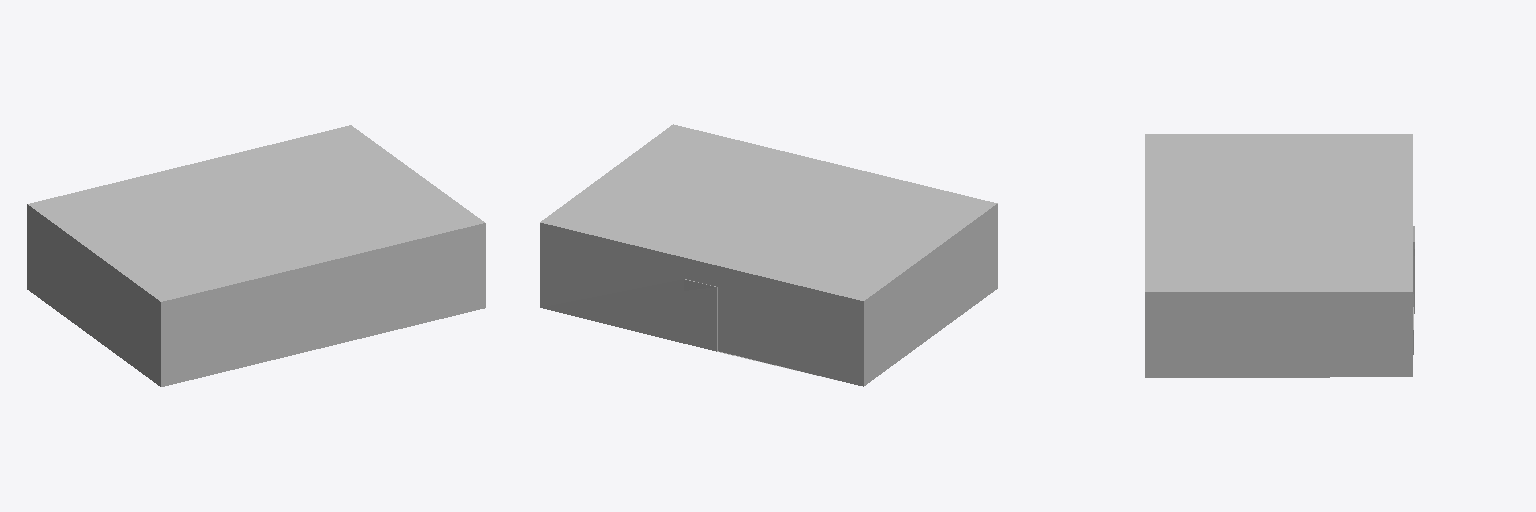
Rendered from walls.obj.
The picture shows the model from 3 angles: view 1: azimuth 30°, elevation 25°; view 2: azimuth 150°, elevation 25°; view 3: azimuth 270°, elevation 25°; orthographic projection.
Visible parts, largest first — view 1: walls; view 2: walls; view 3: walls.
Part boxes in pixels (x1,y1,x2,y2): walls: (27,125,485,386); walls: (540,124,997,386); walls: (1145,134,1414,377).
Size of the model in its own units: 89.36 by 22.54 by 64.23.